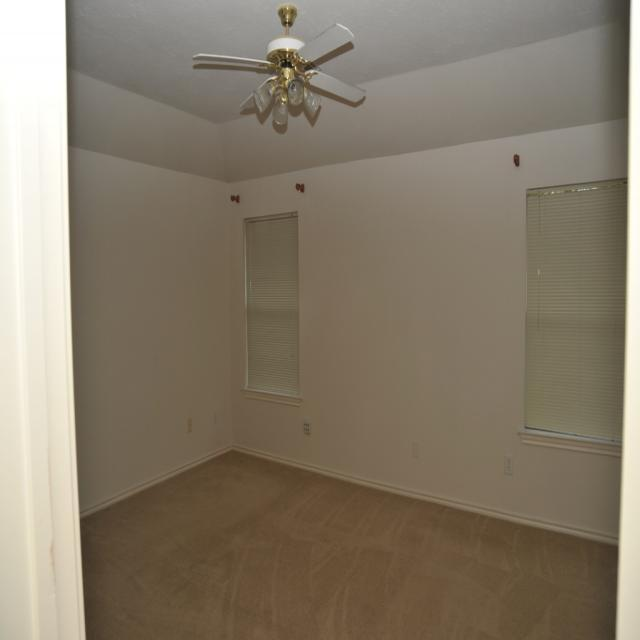fan_off: (190, 2, 364, 110)
